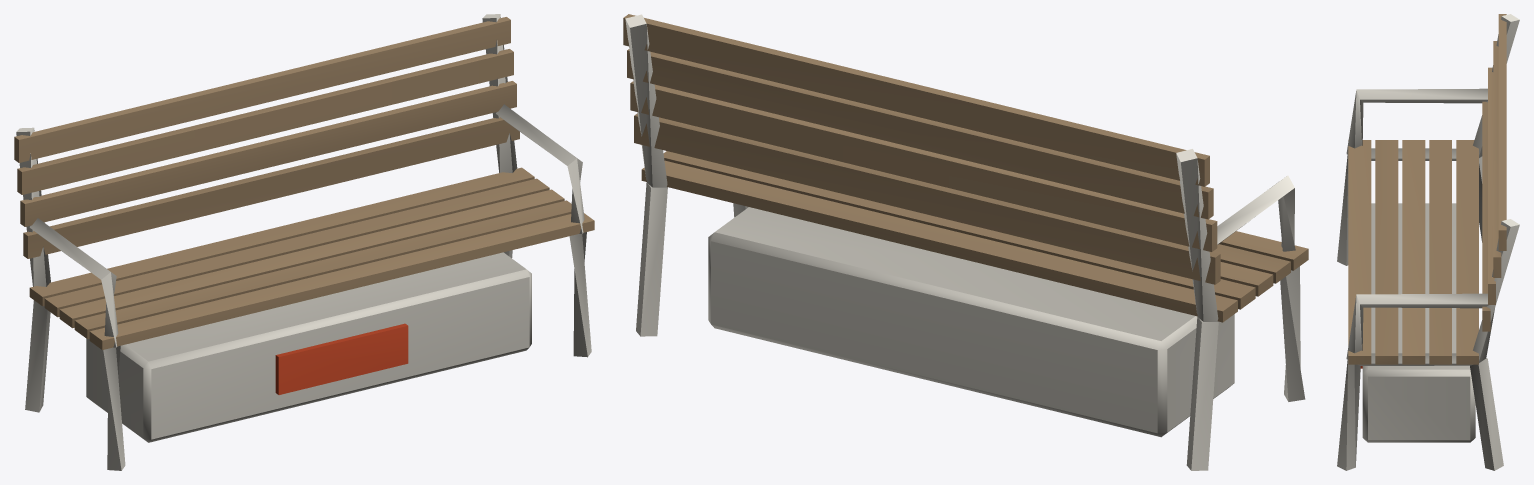
File: deck_bench.glb
3 views of the same model, side by side, from view 1: azimuth 30°, elevation 25°; view 2: azimuth 150°, elevation 25°; view 3: azimuth 270°, elevation 25° (orthographic). The views are drawn at different scales.
Parts seen in each view (by area): view 1: deck_bench_mesh; view 2: deck_bench_mesh; view 3: deck_bench_mesh.
Part boxes in pixels (bbox=[...]): deck_bench_mesh: bbox=[14, 14, 594, 470]; deck_bench_mesh: bbox=[623, 14, 1308, 470]; deck_bench_mesh: bbox=[1337, 14, 1519, 470].
Bounding box in the file's own units: 1.9 × 1.01 × 0.6791.
